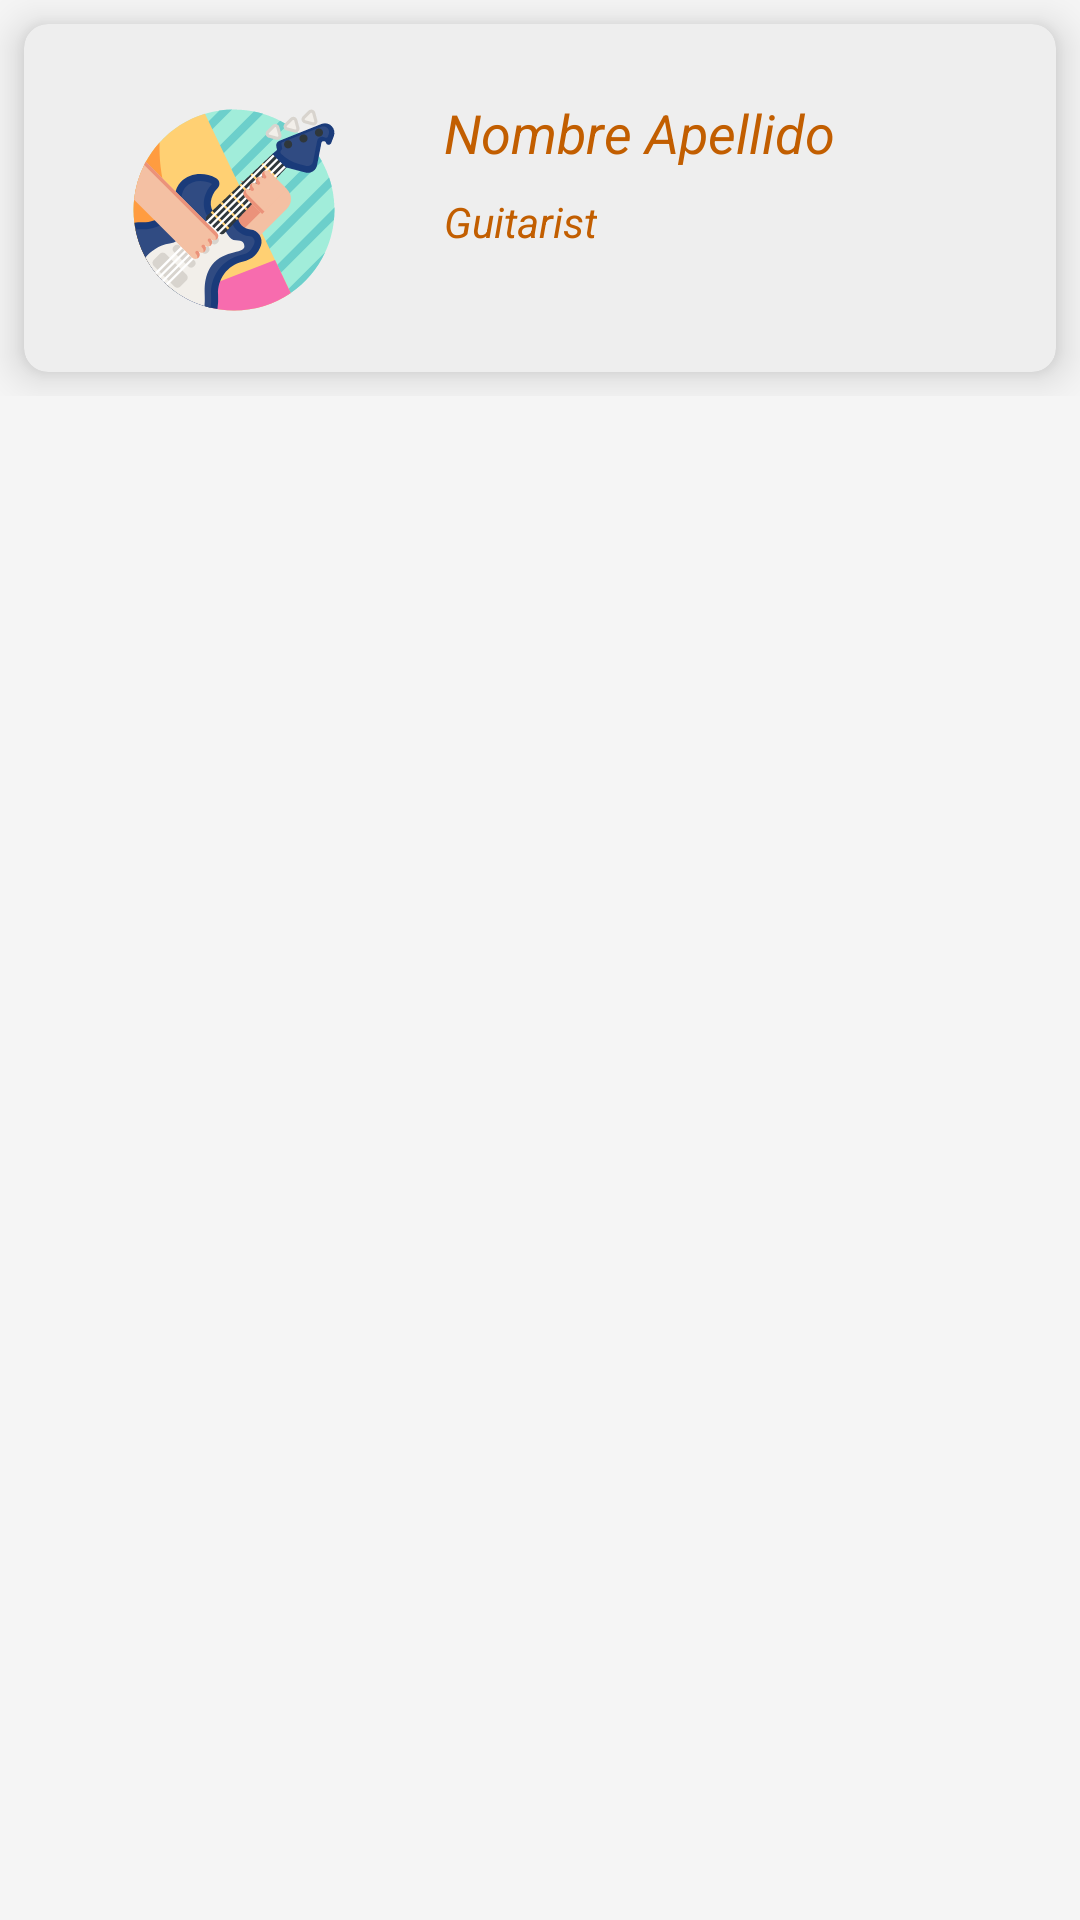

Locate icon controls on the screen. Image size 1080×1920, boxes as (x1, y1, x2, y2).
profile: (133, 109, 335, 311)
